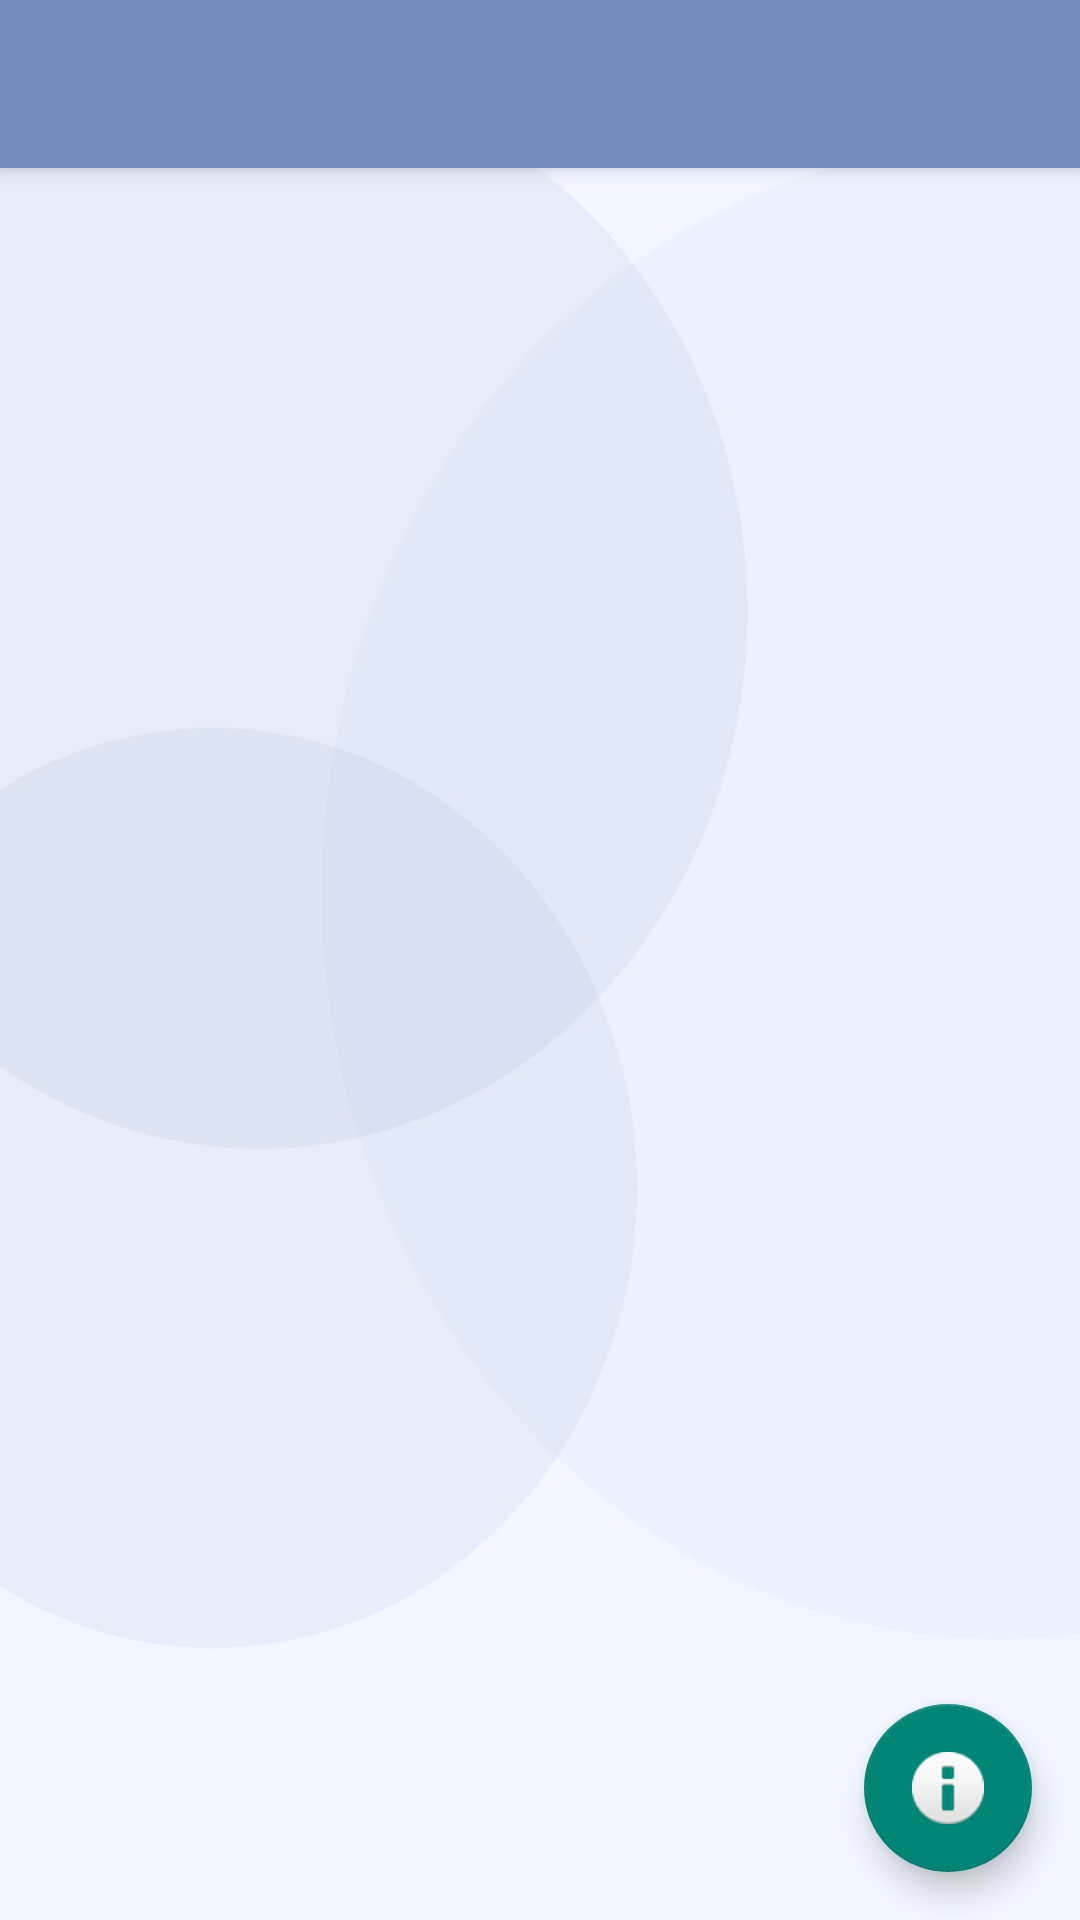

Screen size 1080x1920. Icon name, then its center in pixels as (x=x, y=y):
info: (x=948, y=1788)
